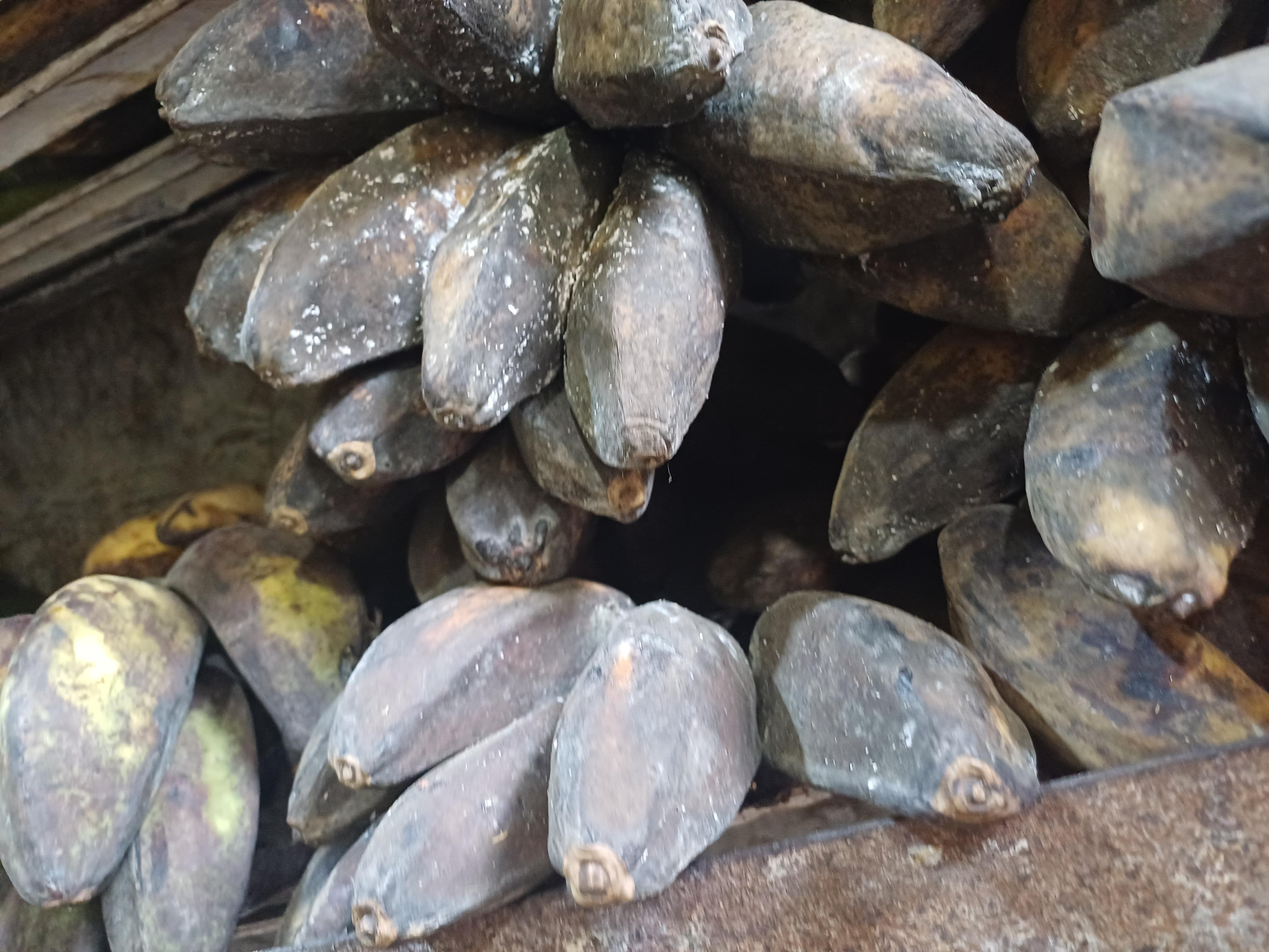overripe: (153, 0, 1039, 471), (802, 42, 1269, 780), (286, 574, 1039, 950), (266, 347, 655, 604)
underripe: (0, 524, 371, 952)
